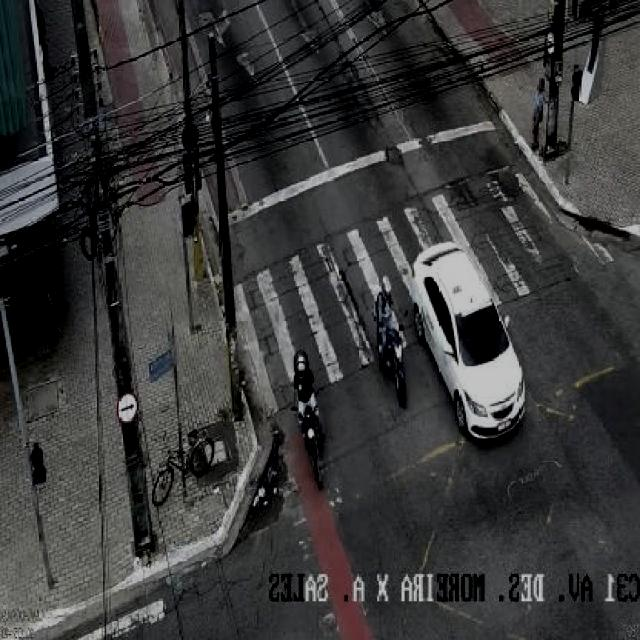bicycle: (153, 426, 215, 506)
car: (413, 240, 527, 440)
motorbike: (291, 350, 327, 493), (374, 274, 408, 410), (530, 74, 548, 154)
